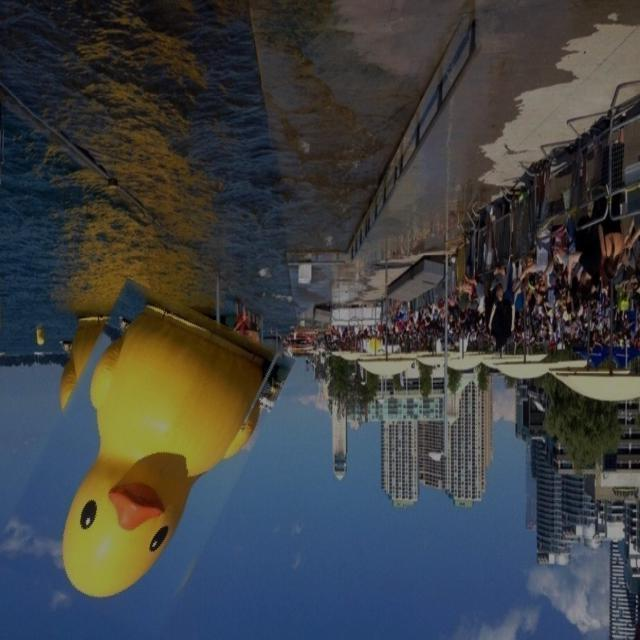rubber-duck: (62, 304, 264, 595), (60, 325, 97, 405)
